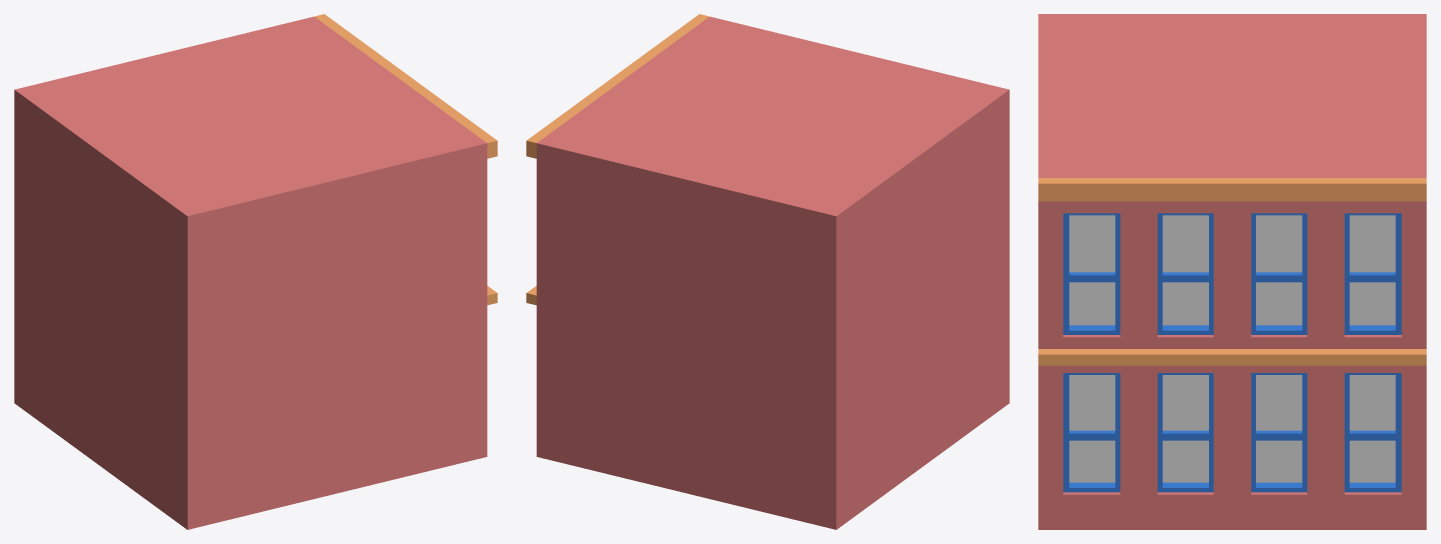
File: building_1.fbx
3 views of the same model, side by side, from view 1: azimuth 30°, elevation 25°; view 2: azimuth 150°, elevation 25°; view 3: azimuth 270°, elevation 25° (orthographic). The views are drawn at different scales.
Visible parts, largest first — view 1: Cube.002; view 2: Cube.002; view 3: Cube.002.
Part boxes in pixels (left/top/right/bottom): Cube.002: left=14, top=14, right=497, bottom=529; Cube.002: left=526, top=14, right=1009, bottom=529; Cube.002: left=1038, top=14, right=1426, bottom=529.
Size of the model in its own units: 207 by 200 by 200.
